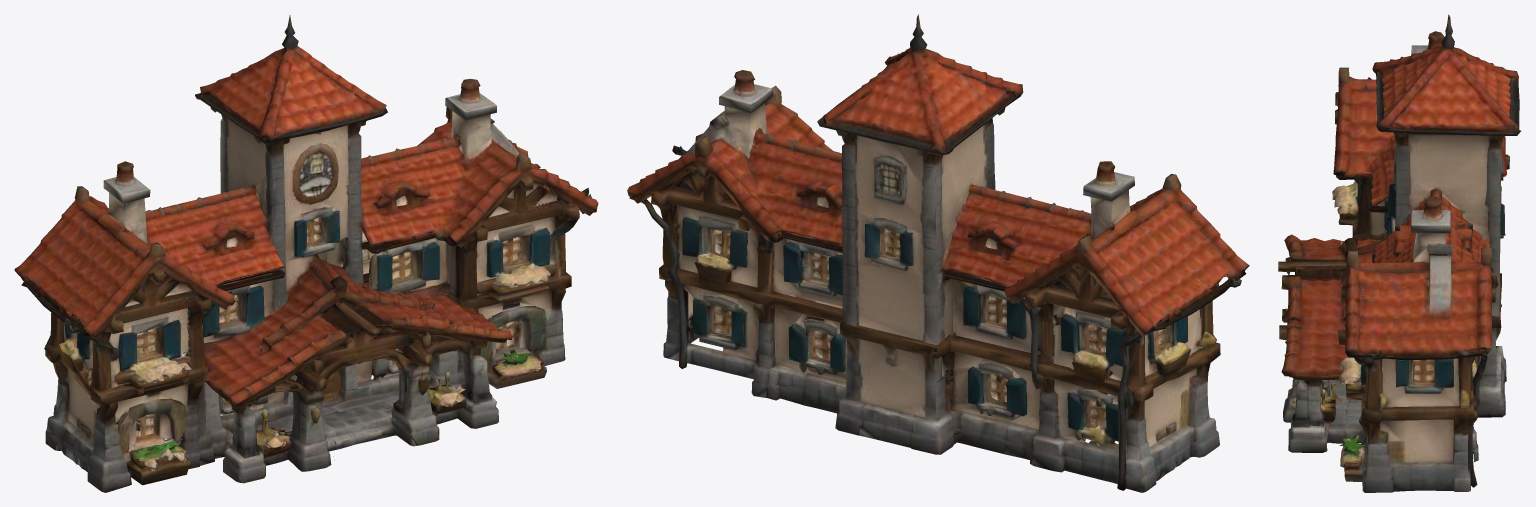
The picture shows the model from 3 angles, left to right: view 1: azimuth 30°, elevation 25°; view 2: azimuth 150°, elevation 25°; view 3: azimuth 270°, elevation 25°; orthographic projection. The views are drawn at different scales.
Visible parts, largest first — view 1: alpine__finance_2__native_mobile; view 2: alpine__finance_2__native_mobile; view 3: alpine__finance_2__native_mobile.
Part boxes in pixels (x1,y1,x2,y2): alpine__finance_2__native_mobile: (14,15,598,492); alpine__finance_2__native_mobile: (627,14,1249,492); alpine__finance_2__native_mobile: (1278,14,1520,492).
Size of the model in its own units: 1 by 0.6966 by 0.4033.
1 material, 1 textured.
